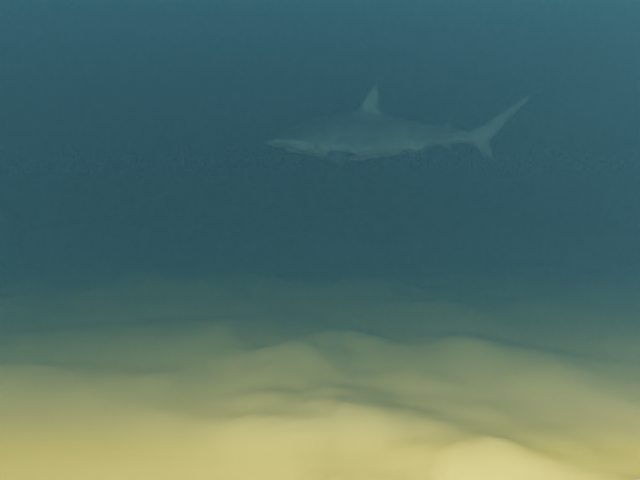Carribean Shark.001: (265, 83, 540, 168)
